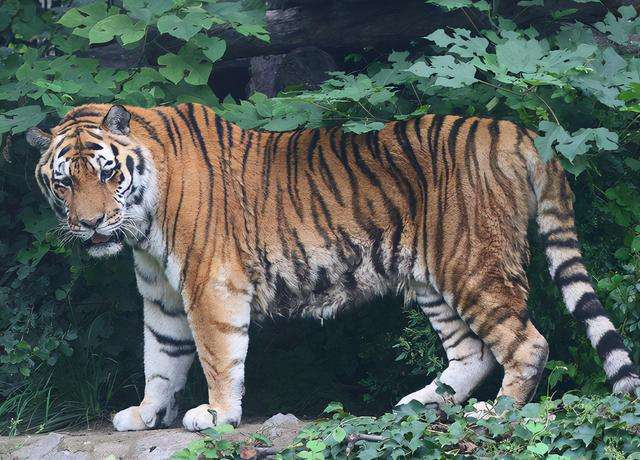tiger: (23, 78, 640, 422)
